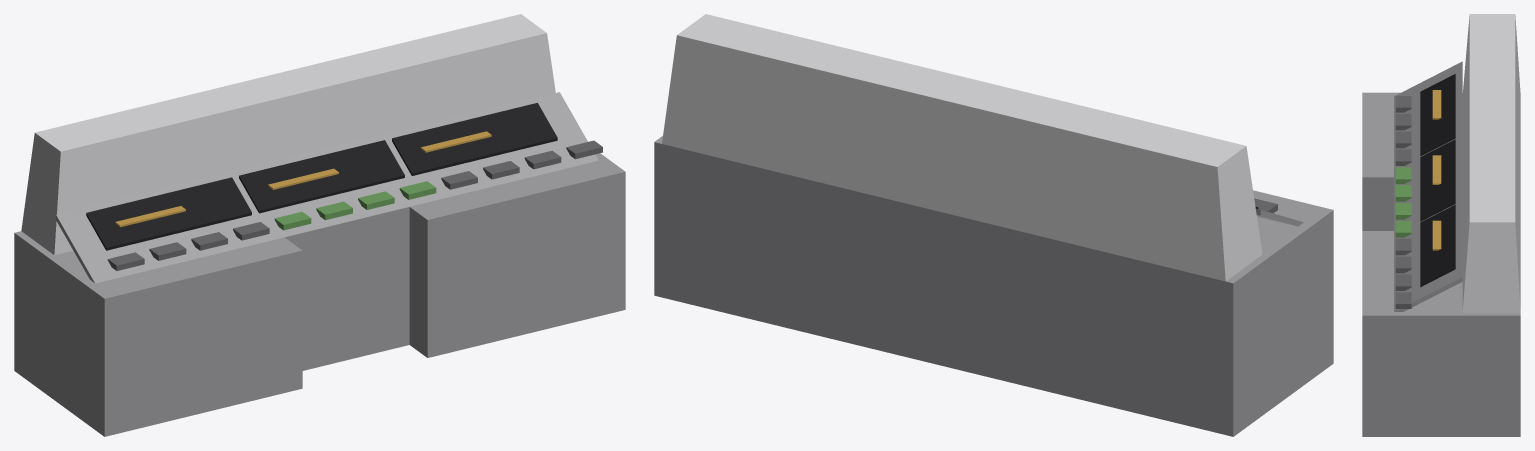
The model's file is vge_gravtech_console.obj.
The picture shows the model from 3 angles, left to right: view 1: azimuth 30°, elevation 25°; view 2: azimuth 150°, elevation 25°; view 3: azimuth 270°, elevation 25°; orthographic projection. The views are drawn at different scales.
Visible parts, largest first — view 1: vge_gravtech_console_3, vge_gravtech_console_1, vge_gravtech_console_2, vge_gravtech_console_0, vge_gravtech_console_4, vge_gravtech_console_9, vge_gravtech_console_7, vge_gravtech_console_5; view 2: vge_gravtech_console_0, vge_gravtech_console_3, vge_gravtech_console_1; view 3: vge_gravtech_console_3, vge_gravtech_console_0, vge_gravtech_console_2, vge_gravtech_console_4, vge_gravtech_console_1, vge_gravtech_console_7, vge_gravtech_console_9, vge_gravtech_console_5, vge_gravtech_console_10, vge_gravtech_console_8, vge_gravtech_console_6, vge_gravtech_console_22 (+11 smaller).
Part boxes in pixels (<box>): vge_gravtech_console_3: <box>21,14,555,255</box>; vge_gravtech_console_1: <box>86,237,302,436</box>; vge_gravtech_console_2: <box>409,158,625,357</box>; vge_gravtech_console_0: <box>14,153,607,423</box>; vge_gravtech_console_4: <box>56,92,598,283</box>; vge_gravtech_console_9: <box>392,103,557,175</box>; vge_gravtech_console_7: <box>239,140,404,213</box>; vge_gravtech_console_5: <box>86,177,251,250</box>; vge_gravtech_console_0: <box>654,136,1313,436</box>; vge_gravtech_console_3: <box>662,14,1262,281</box>; vge_gravtech_console_1: <box>1253,190,1333,377</box>; vge_gravtech_console_3: <box>1462,14,1520,312</box>; vge_gravtech_console_0: <box>1394,92,1520,436</box>; vge_gravtech_console_2: <box>1362,231,1393,436</box>; vge_gravtech_console_4: <box>1394,61,1462,311</box>; vge_gravtech_console_1: <box>1362,92,1393,230</box>; vge_gravtech_console_7: <box>1420,139,1455,221</box>; vge_gravtech_console_9: <box>1420,204,1455,287</box>; vge_gravtech_console_5: <box>1420,74,1455,156</box>; vge_gravtech_console_10: <box>1432,220,1441,250</box>; vge_gravtech_console_8: <box>1432,155,1441,184</box>; vge_gravtech_console_6: <box>1432,90,1441,119</box>; vge_gravtech_console_22: <box>1395,292,1411,308</box>.
Bounding box in the file's own units: 3 × 1.3 × 0.9.
